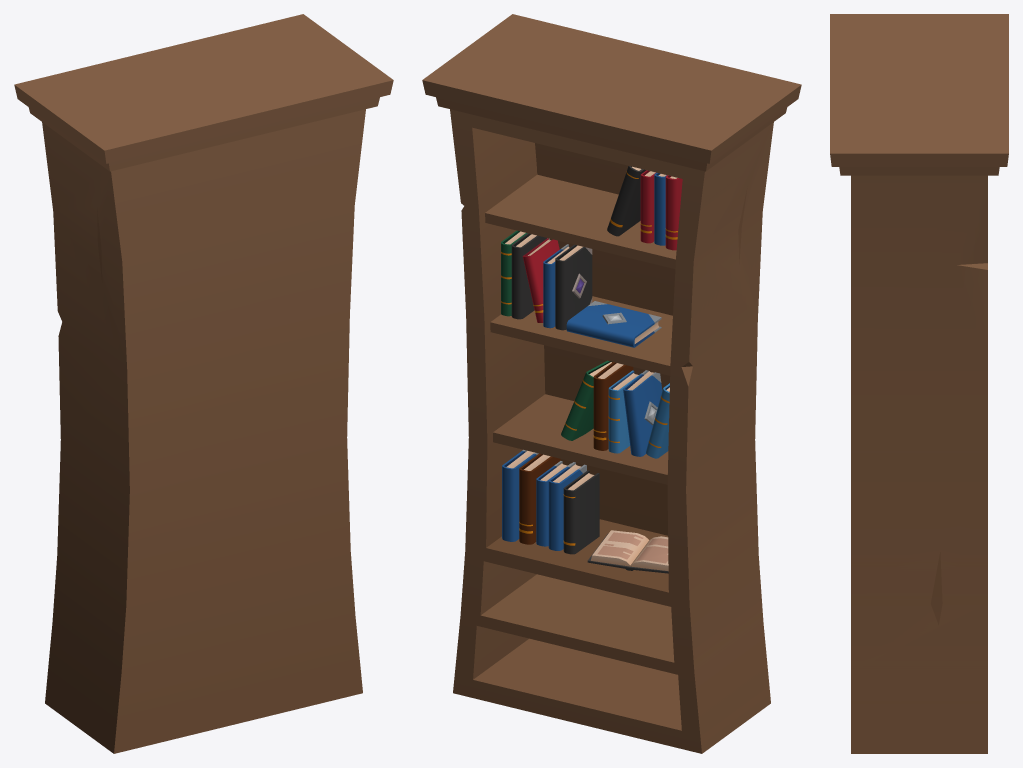
The model's file is ShelfPattern_03.fbx.
The picture shows the model from 3 angles, left to right: view 1: azimuth 30°, elevation 25°; view 2: azimuth 150°, elevation 25°; view 3: azimuth 270°, elevation 25°; orthographic projection.
Visible parts, largest first — view 1: ShelfPattern_03; view 2: ShelfPattern_03; view 3: ShelfPattern_03.
Part boxes in pixels (bbox=[...]): ShelfPattern_03: bbox=[14, 14, 393, 753]; ShelfPattern_03: bbox=[422, 14, 801, 753]; ShelfPattern_03: bbox=[830, 14, 1008, 753].
Bounding box in the file's own units: 99.08 × 202 × 53.61.
